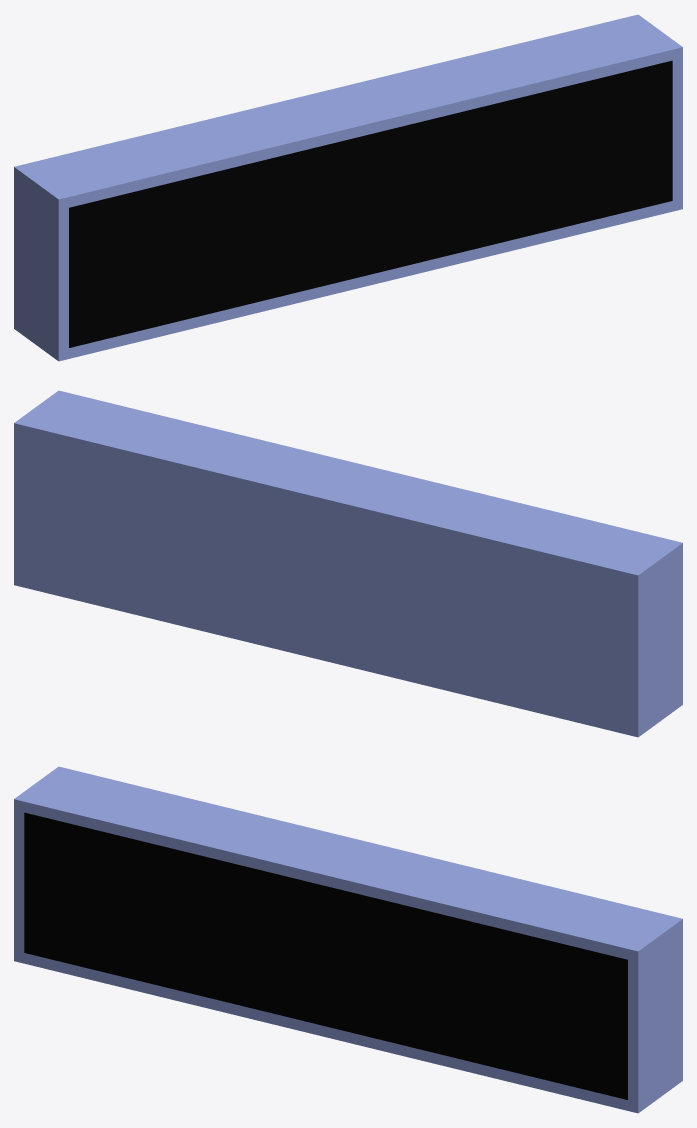
File: rfs_lcd_extralarge_lod2.fbx
3 renders of one model, top to bottom at view 1: azimuth 30°, elevation 25°; view 2: azimuth 150°, elevation 25°; view 3: azimuth 330°, elevation 25°, orthographic.
Parts seen in each view (by area): view 1: obj_interactive_textsign_extralarge_lod2; view 2: obj_interactive_textsign_extralarge_lod2; view 3: obj_interactive_textsign_extralarge_lod2.
Boxes of the visible parts, bbox=[...] form: obj_interactive_textsign_extralarge_lod2: bbox=[14, 14, 682, 361]; obj_interactive_textsign_extralarge_lod2: bbox=[14, 390, 682, 737]; obj_interactive_textsign_extralarge_lod2: bbox=[14, 766, 682, 1113].
Size of the model in its own units: 8.07 by 2 by 1.
